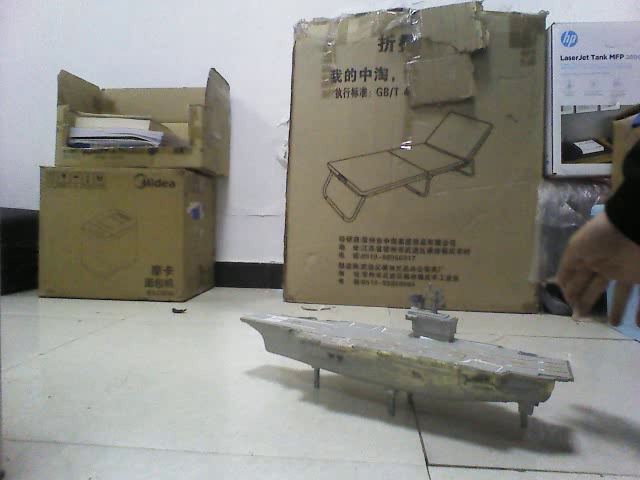aircraft_carrier: (240, 292, 577, 406)
